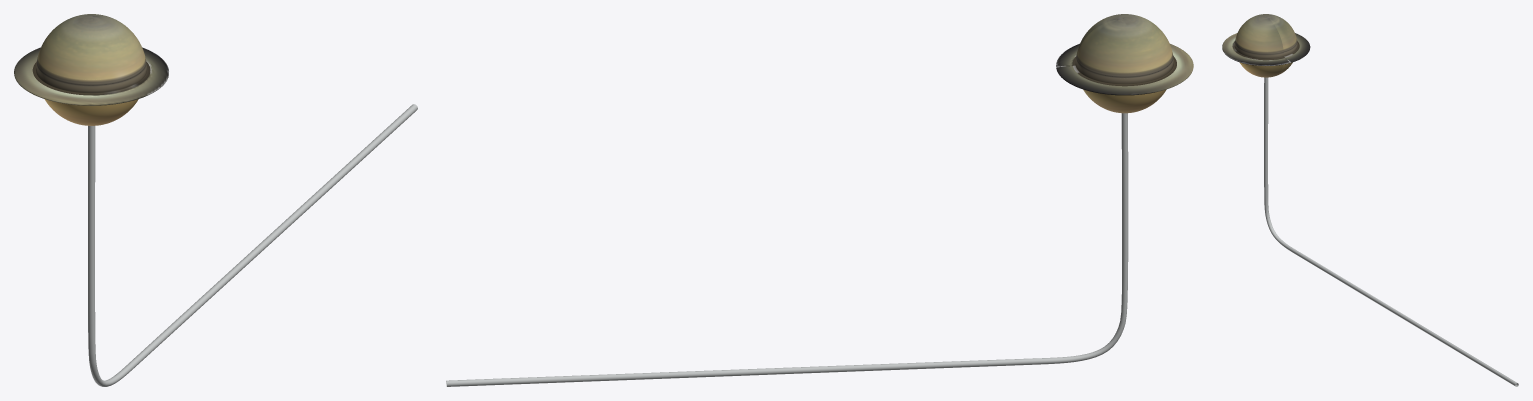
File: orrery_planeta4.glb
3 views of the same model, side by side, from view 1: azimuth 30°, elevation 25°; view 2: azimuth 150°, elevation 25°; view 3: azimuth 270°, elevation 25° (orthographic). The views are drawn at different scales.
Parts seen in each view (by area): view 1: polySurface7_modelUniverseMaterial_0; view 2: polySurface7_modelUniverseMaterial_0; view 3: polySurface7_modelUniverseMaterial_0.
Part boxes in pixels (x1=…): polySurface7_modelUniverseMaterial_0: x1=14, y1=14, x2=417, y2=386; polySurface7_modelUniverseMaterial_0: x1=446, y1=14, x2=1193, y2=386; polySurface7_modelUniverseMaterial_0: x1=1222, y1=14, x2=1518, y2=386.
Bounding box in the file's own units: 0.2911 × 0.1754 × 0.2149.
Materials: 1 (1 with a texture image).
